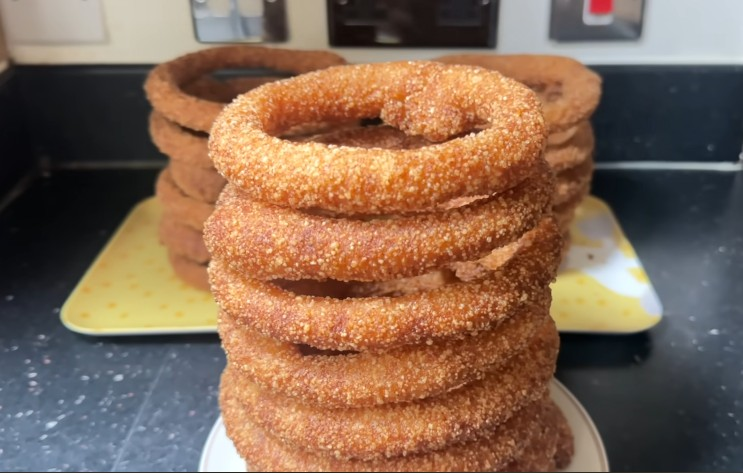sel_roti: (216, 59, 547, 196), (229, 201, 540, 269), (242, 284, 531, 347), (221, 353, 566, 396)
